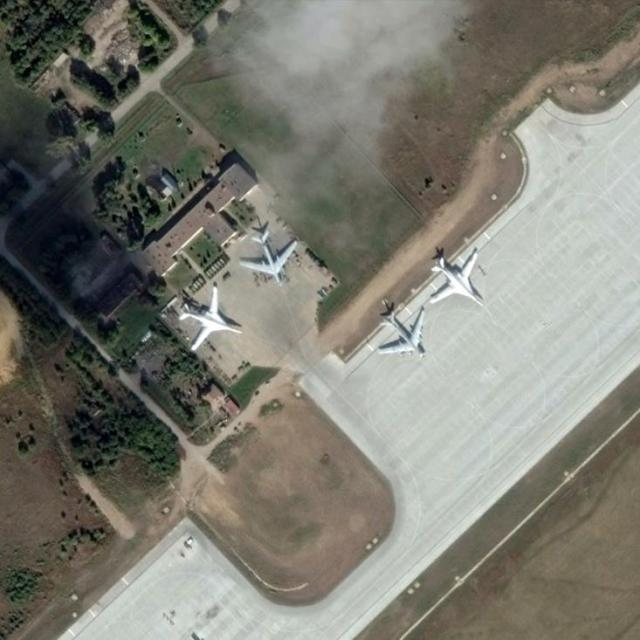fighter jet: (236, 217, 299, 283), (165, 293, 238, 349), (367, 300, 429, 358), (422, 246, 483, 303)
